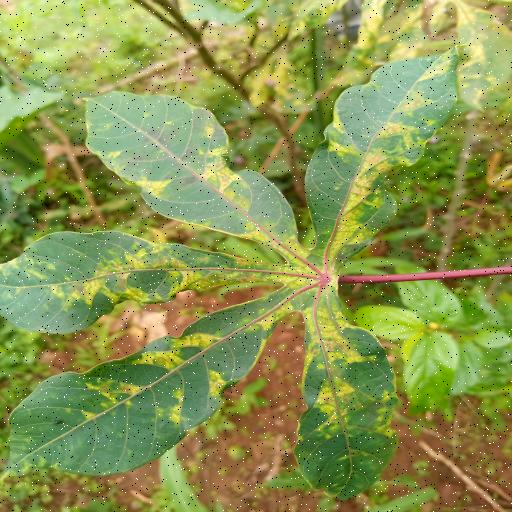Cassava_Mosaic: (0, 54, 484, 509)
